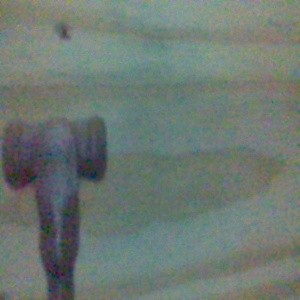palu: (1, 113, 108, 300)
